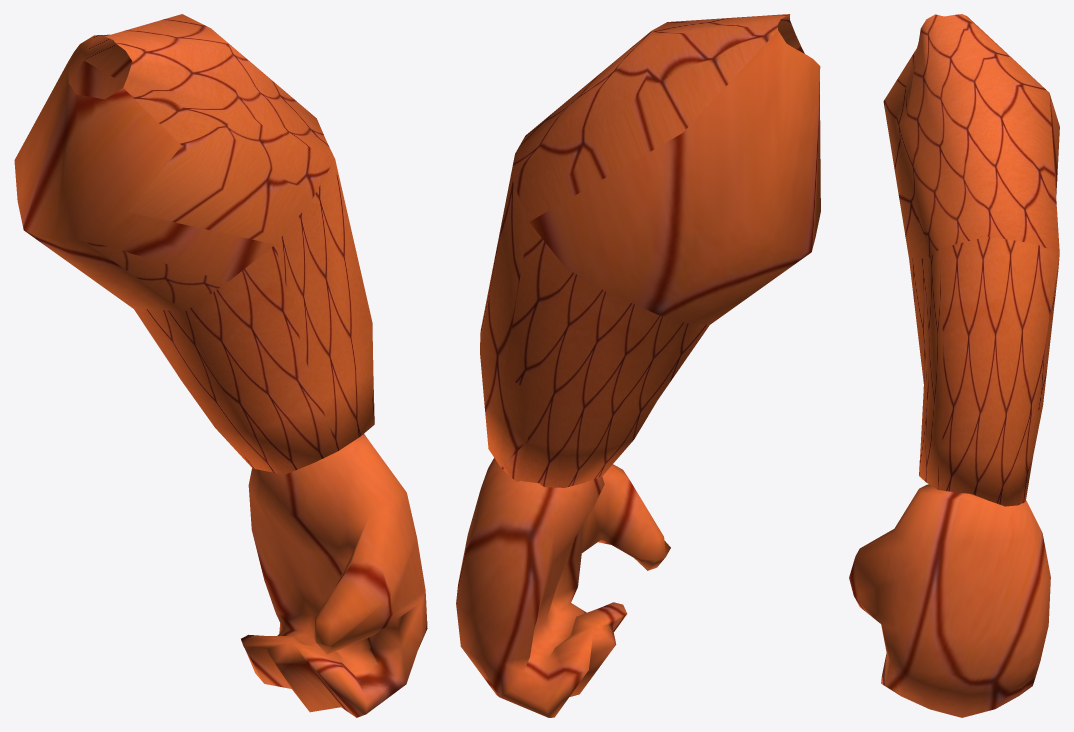
The model's file is brazoIzq.obj.
The picture shows the model from 3 angles, left to right: view 1: azimuth 30°, elevation 25°; view 2: azimuth 150°, elevation 25°; view 3: azimuth 270°, elevation 25°; orthographic projection. The views are drawn at different scales.
Parts seen in each view (by area): view 1: brazoizq; view 2: brazoizq; view 3: brazoizq.
Part boxes in pixels (<box>): brazoizq: <box>14,14,427,717</box>; brazoizq: <box>456,14,820,717</box>; brazoizq: <box>849,14,1059,717</box>.
Size of the model in its own units: 1.33 by 2.56 by 0.8161.
1 material, 1 textured.
